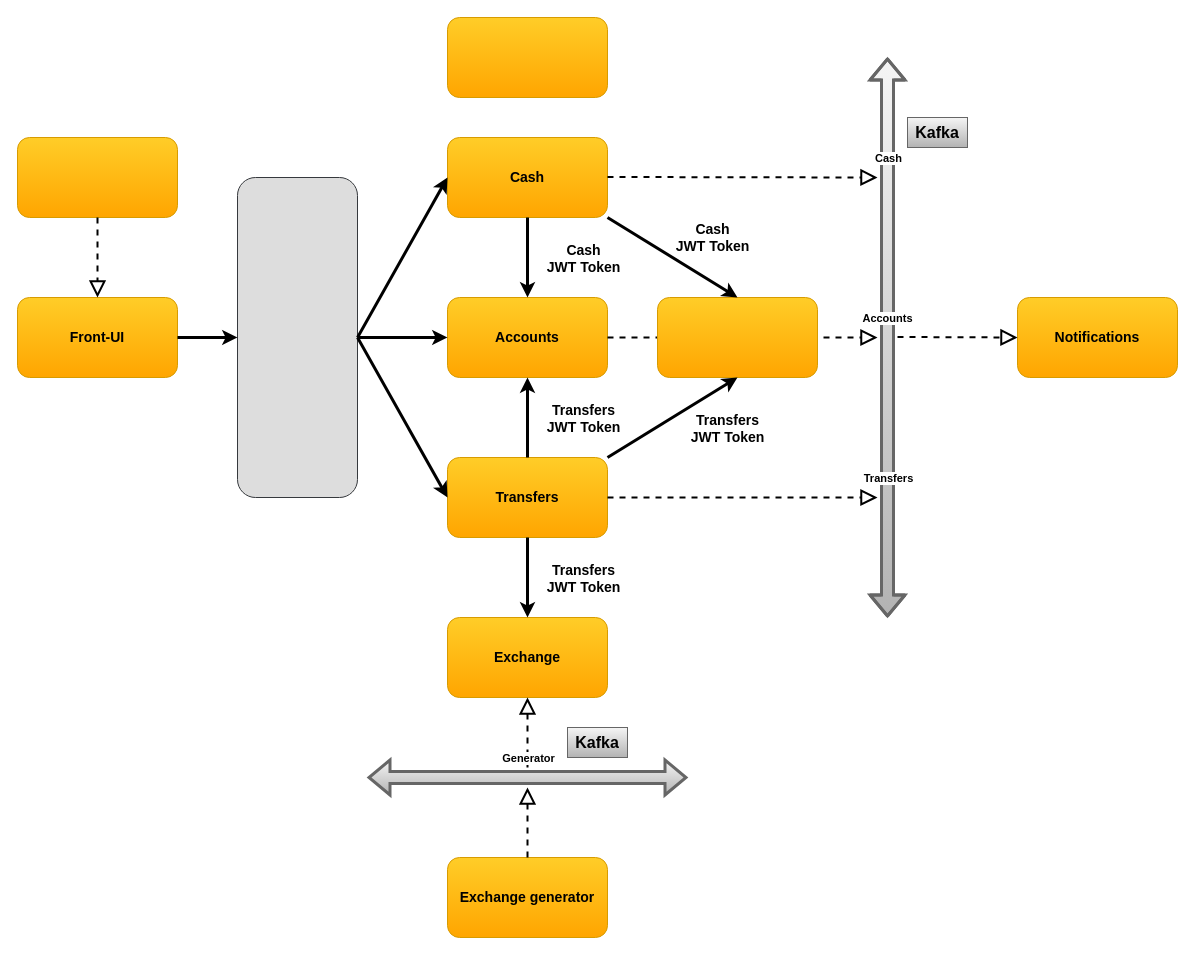
Image size: 1195x955. Some labels were removed from this diagram. The centre of each missing label's shape, as x and y in pixels:
Blocker: (737,337)
Gateway: (297,337)
OAuth2.0 (KeyCloak): (527,57)
Web-браузер: (97,177)
